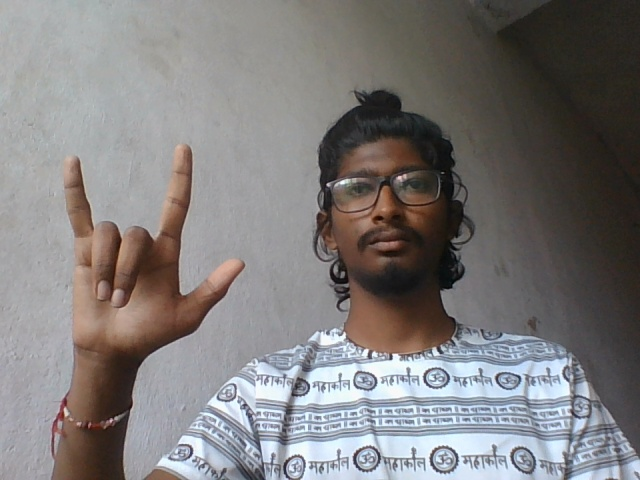House: (53, 135, 252, 390)
